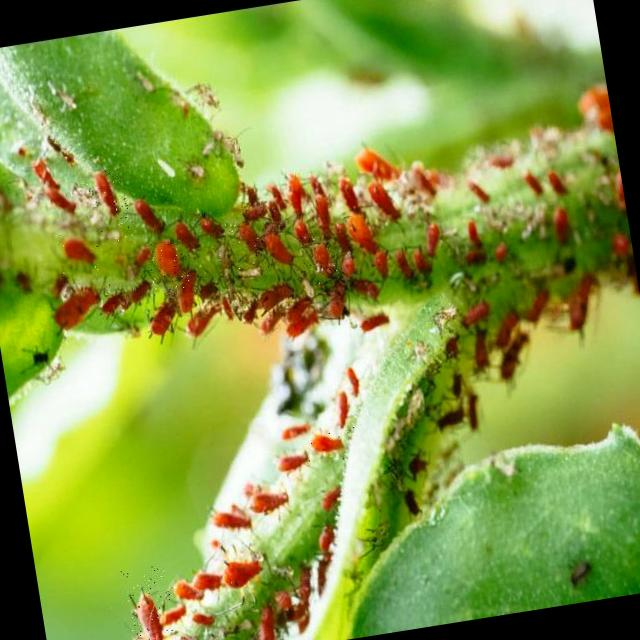aphid: (30, 275, 110, 346), (120, 563, 181, 640), (53, 220, 112, 294), (84, 164, 133, 244), (222, 203, 270, 274), (146, 232, 195, 296), (298, 424, 364, 468), (296, 228, 346, 285), (280, 296, 322, 342), (219, 554, 266, 592), (366, 176, 403, 222), (490, 310, 526, 350), (132, 195, 165, 238), (520, 286, 555, 325), (246, 487, 292, 516), (210, 506, 252, 534), (410, 164, 438, 202), (338, 176, 362, 216), (460, 299, 493, 327), (552, 206, 574, 247), (258, 306, 288, 336), (324, 288, 350, 322), (198, 212, 225, 244), (422, 220, 444, 259), (312, 192, 333, 232), (275, 451, 311, 473), (316, 524, 339, 554), (546, 167, 568, 198), (522, 169, 544, 198), (611, 231, 632, 261), (292, 217, 312, 248), (372, 248, 391, 280), (412, 248, 432, 276), (466, 219, 482, 249)
